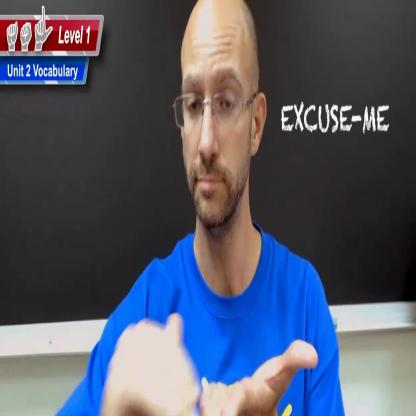ExcuseMe: (97, 301, 319, 416)
